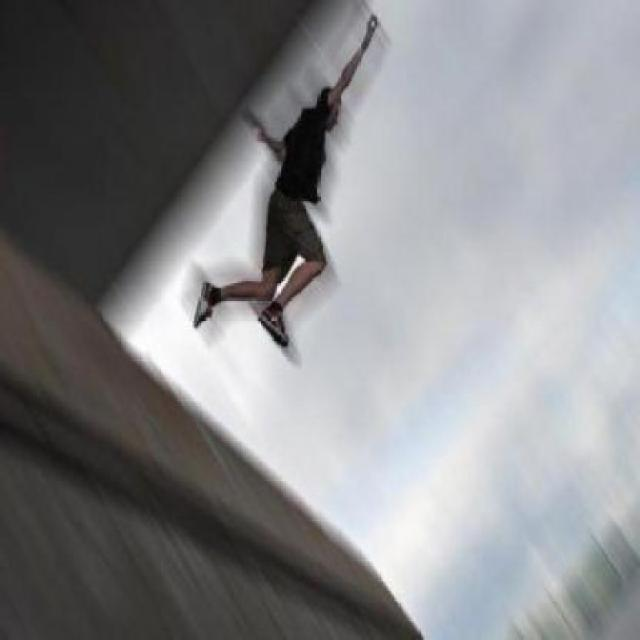fall: (189, 11, 380, 354)
